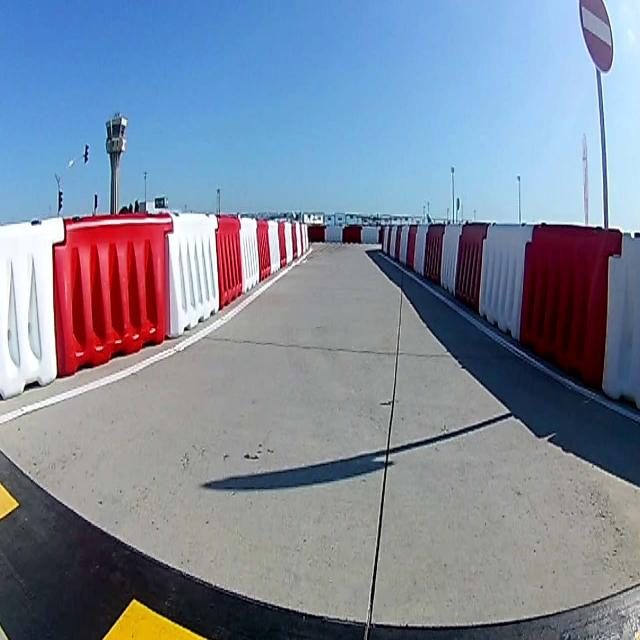girisyok: (579, 1, 614, 75)
